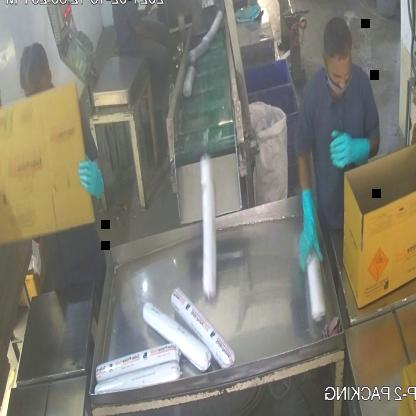glove: (293, 172, 323, 280), (328, 120, 384, 176), (72, 151, 111, 216)
